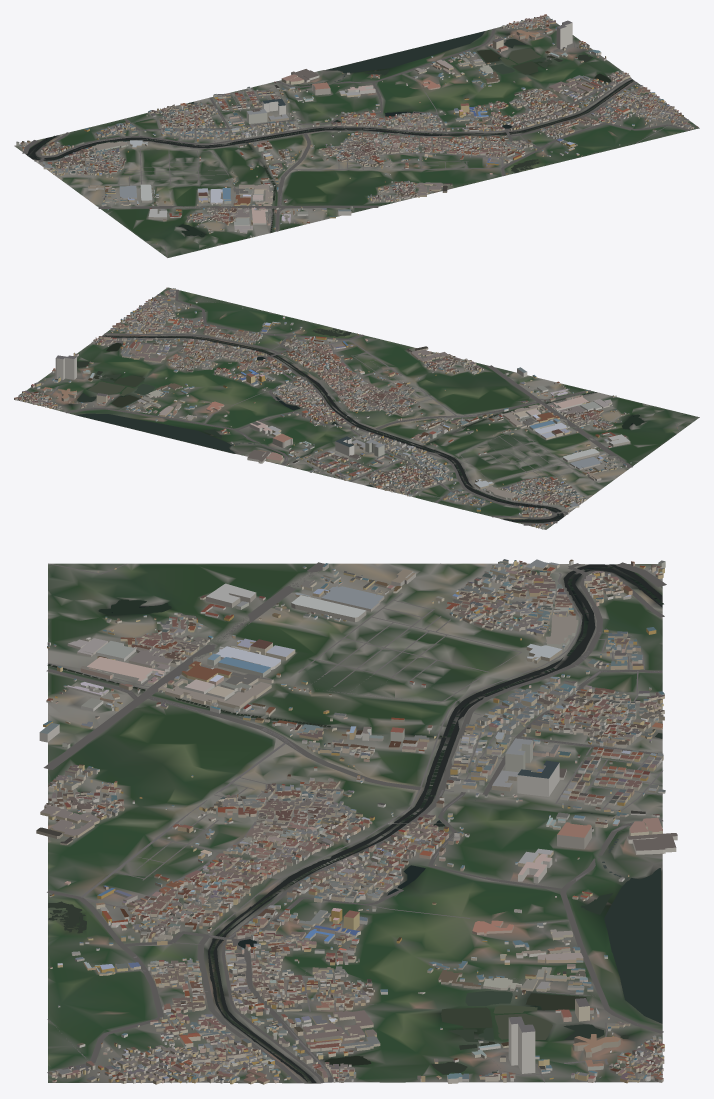
3 views of the same model, one above another, from view 1: azimuth 30°, elevation 25°; view 2: azimuth 150°, elevation 25°; view 3: azimuth 270°, elevation 25° (orthographic). The views are drawn at different scales.
Parts seen in each view (by area): view 1: ground, buildings, roads, water; view 2: ground, buildings, roads, water; view 3: ground, buildings, water, roads.
Boxes of the visible parts, x1=… form: ground: x1=14, y1=17, x2=699, y2=257; buildings: x1=16, y1=14, x2=698, y2=246; roads: x1=22, y1=28, x2=690, y2=257; water: x1=26, y1=31, x2=633, y2=237; ground: x1=14, y1=287, x2=699, y2=529; buildings: x1=14, y1=287, x2=678, y2=529; roads: x1=31, y1=289, x2=699, y2=525; water: x1=68, y1=328, x2=644, y2=522; ground: x1=48, y1=563, x2=662, y2=1083; buildings: x1=36, y1=559, x2=677, y2=1084; water: x1=47, y1=564, x2=663, y2=1082; roads: x1=43, y1=562, x2=666, y2=1083.
Size of the model in its own units: 2820 by 111 by 1463.
